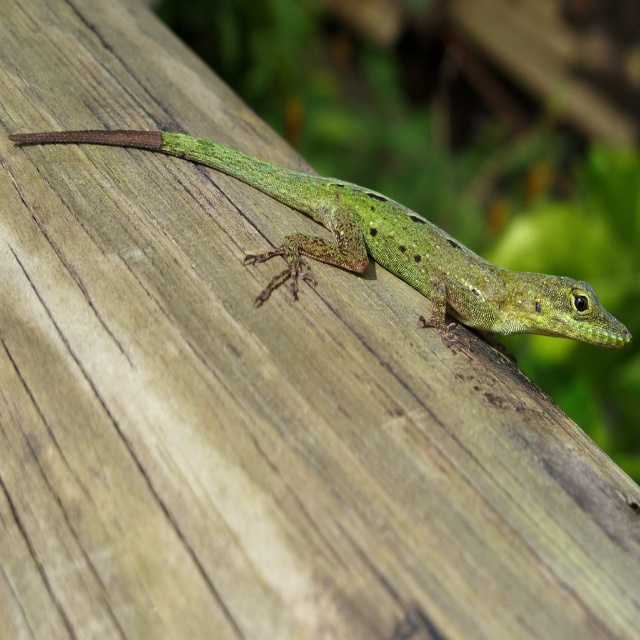Lizard: (8, 127, 634, 342)
